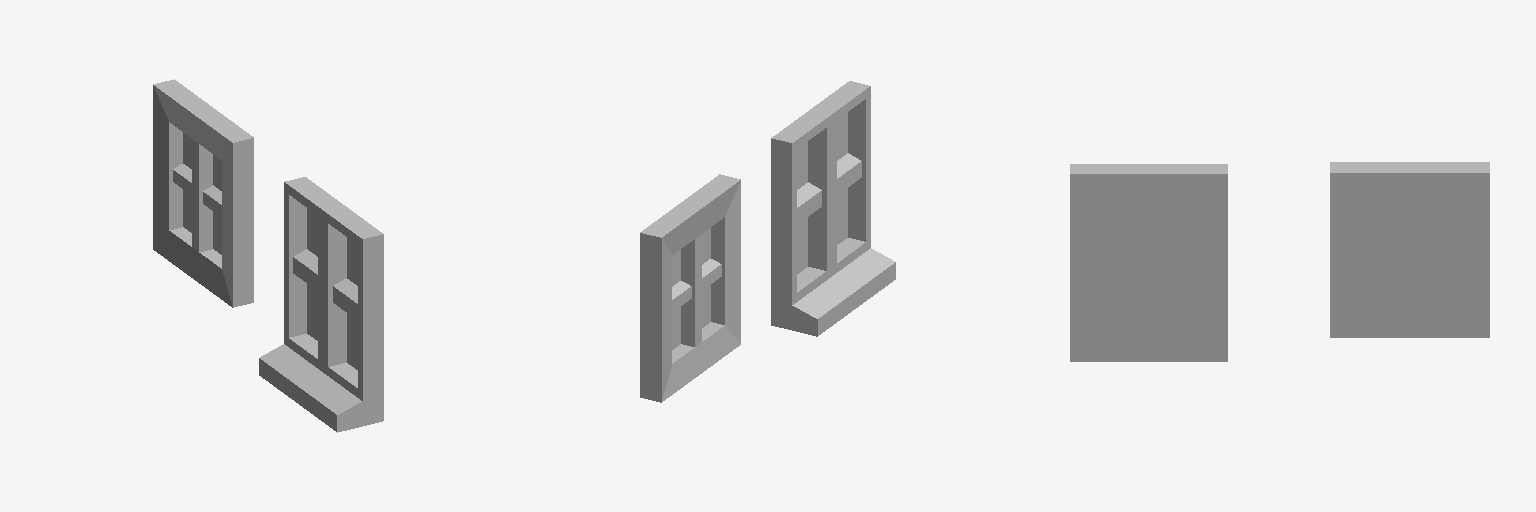
Rendered from windows.obj.
The picture shows the model from 3 angles: view 1: azimuth 30°, elevation 25°; view 2: azimuth 150°, elevation 25°; view 3: azimuth 270°, elevation 25°; orthographic projection.
Visible parts, largest first — view 1: pasted__pCube1 group, pCube1; view 2: pasted__pCube1 group, pCube1; view 3: pasted__pCube1 group, pCube1.
Boxes of the visible parts, <box> form: pasted__pCube1 group: <box>259,177,383,432</box>; pCube1: <box>153,79,253,307</box>; pasted__pCube1 group: <box>771,81,895,336</box>; pCube1: <box>640,174,740,402</box>; pasted__pCube1 group: <box>1070,164,1227,361</box>; pCube1: <box>1330,162,1489,337</box>.
Bounding box in the file's own units: 4.54 × 17.57 × 35.38.